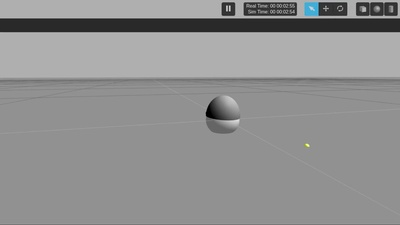mira_robot: (206, 95, 240, 134)
